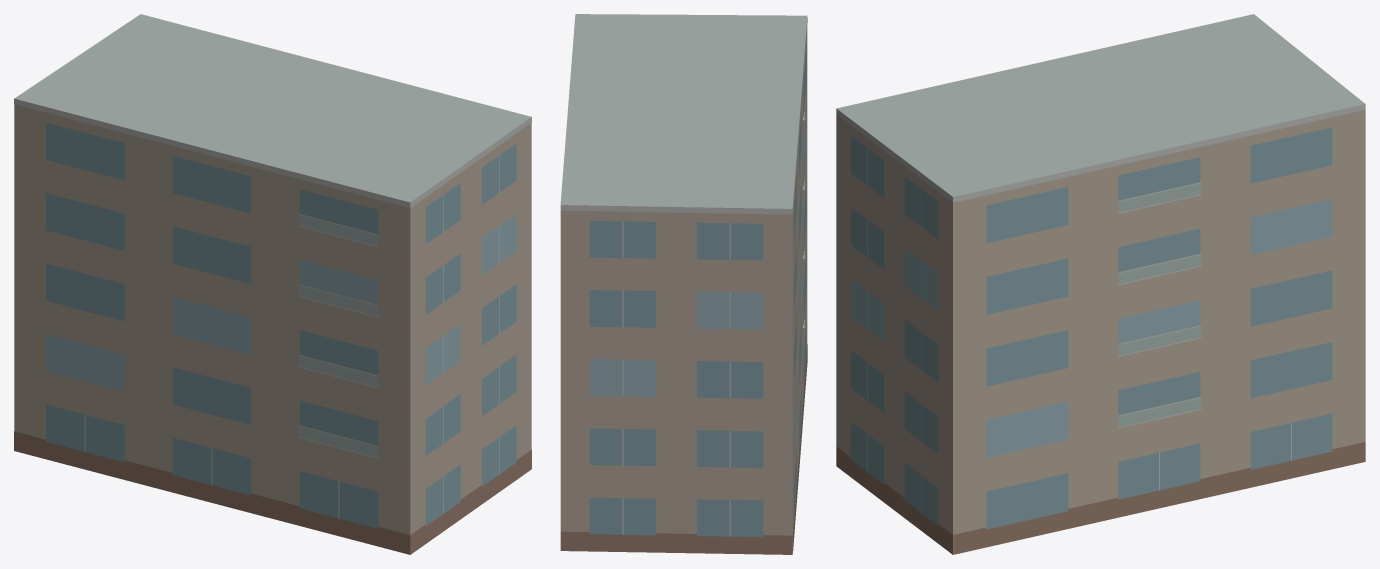
File: survey-upis-33006568.glb
The picture shows the model from 3 angles, left to right: view 1: azimuth 30°, elevation 25°; view 2: azimuth 150°, elevation 25°; view 3: azimuth 270°, elevation 25°; orthographic projection. The views are drawn at different scales.
Parts seen in each view (by area): view 1: survey-upis-33006568.tmp; view 2: survey-upis-33006568.tmp; view 3: survey-upis-33006568.tmp.
Boxes of the visible parts, x1,y1,x2,y2 form: survey-upis-33006568.tmp: (14, 14, 531, 554); survey-upis-33006568.tmp: (560, 14, 807, 554); survey-upis-33006568.tmp: (836, 14, 1365, 554).
Size of the model in its own units: 16.55 by 15.07 by 20.21.
